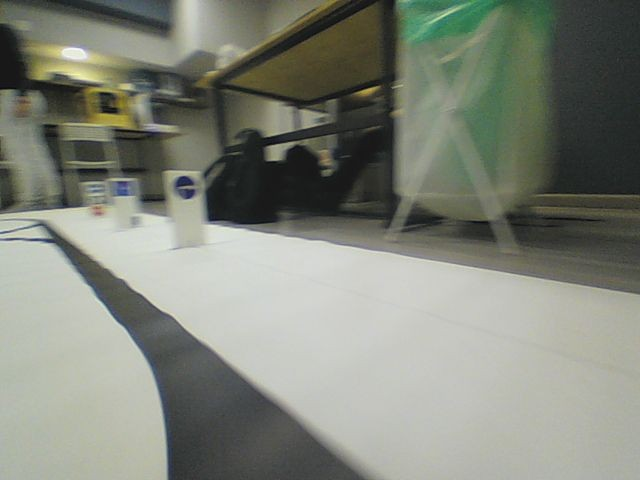Right: (173, 176, 199, 200)
